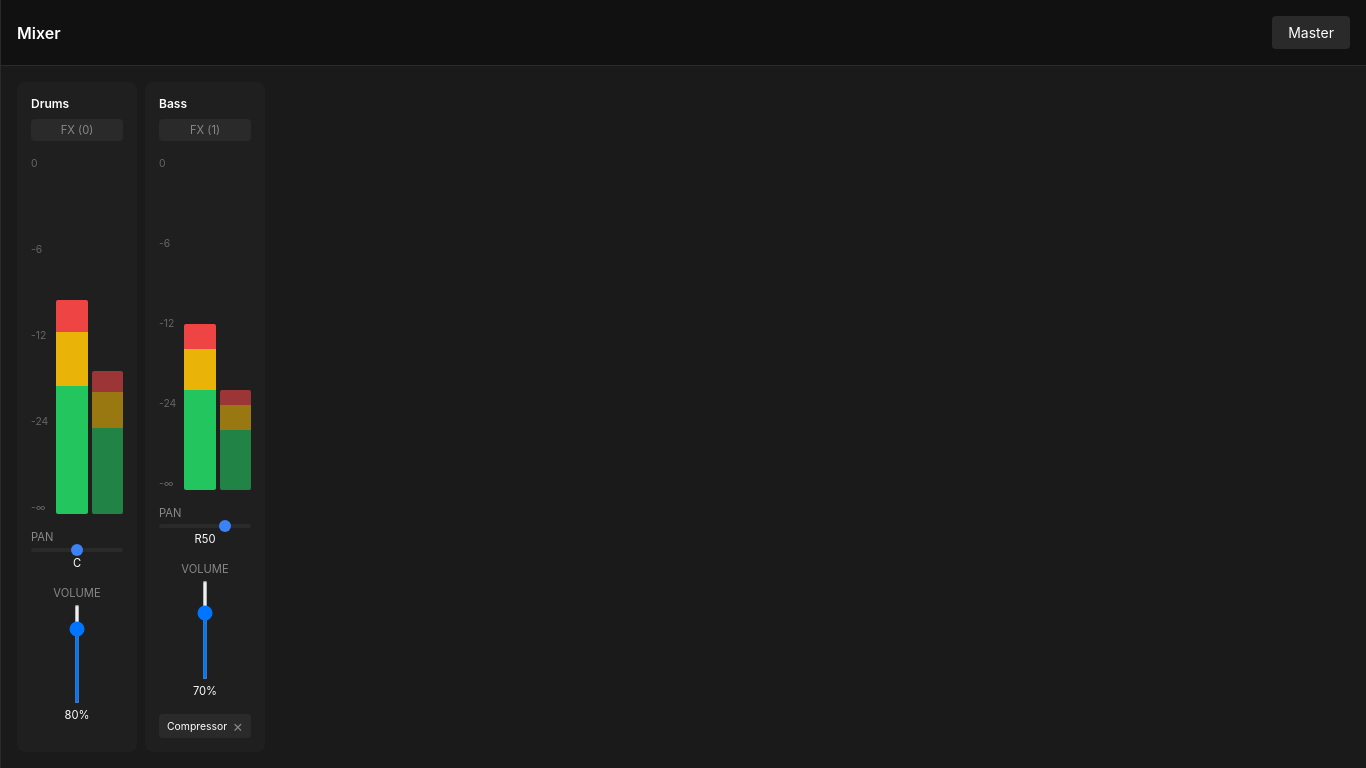
Scenario: MixerPanel › should open effects panel when effects button clicked
Click the button with test id "track-effects-button" showing "FX (0)".
click(77, 130)  # box [31,119,123,141]
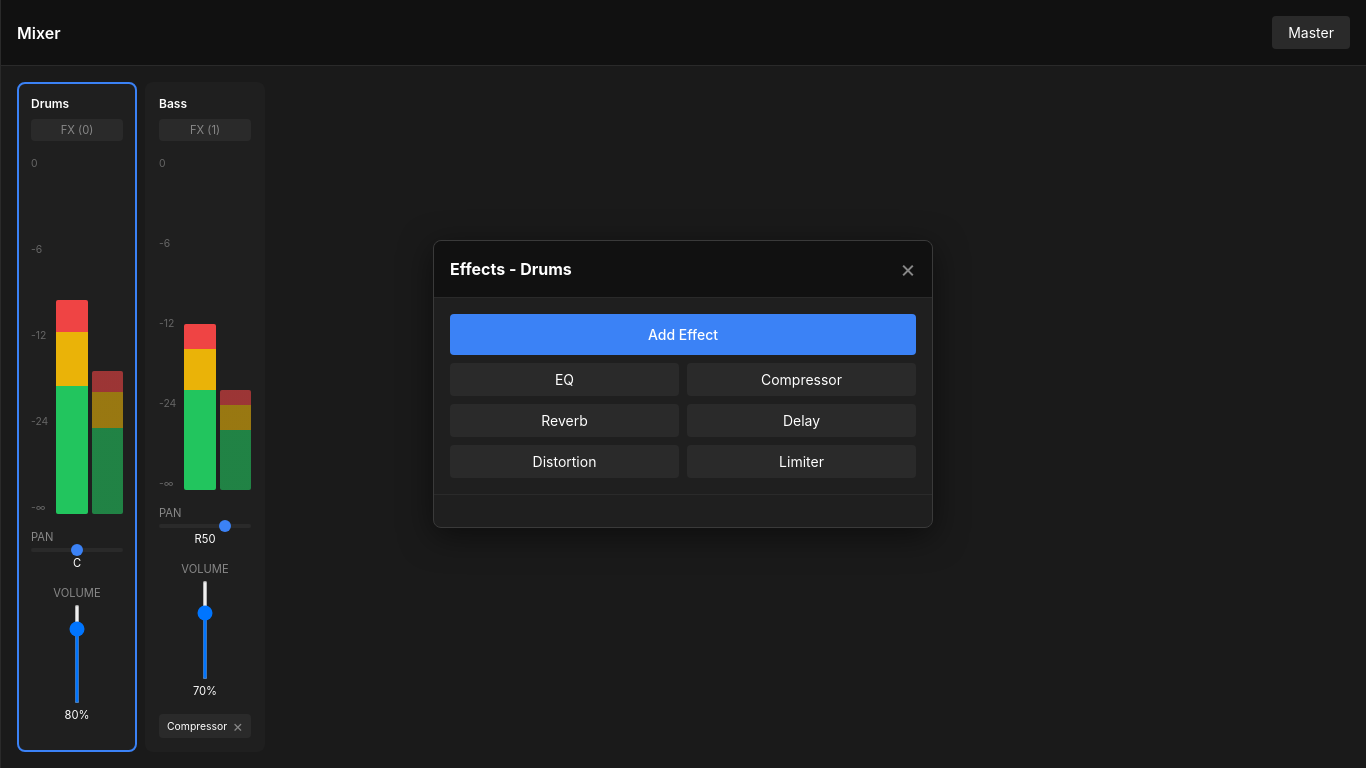
Result: the element with test id "effects-panel" is shown at [433,240,933,528]
